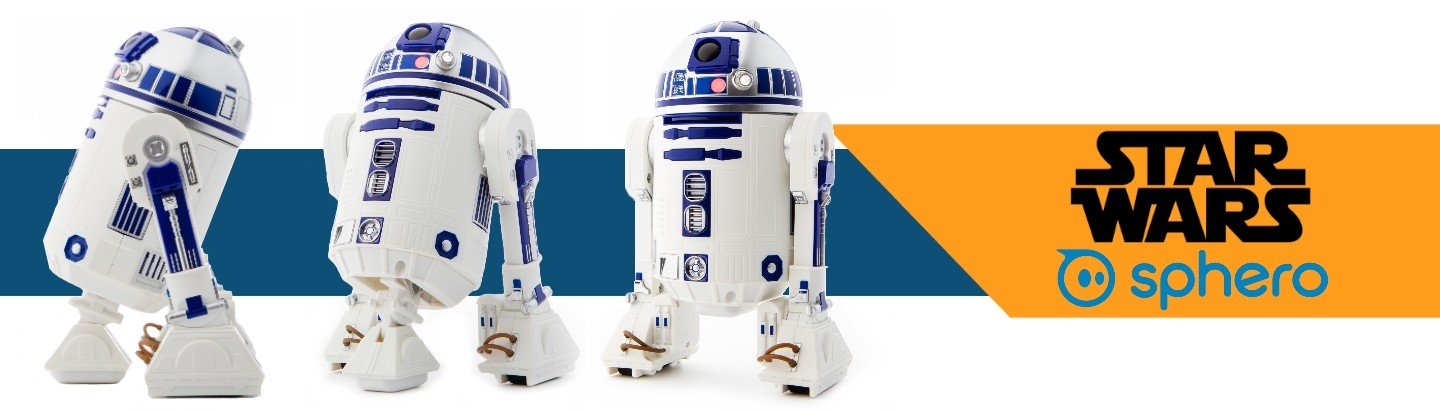r2d2: (321, 20, 580, 391), (611, 19, 839, 391), (45, 24, 268, 399)
